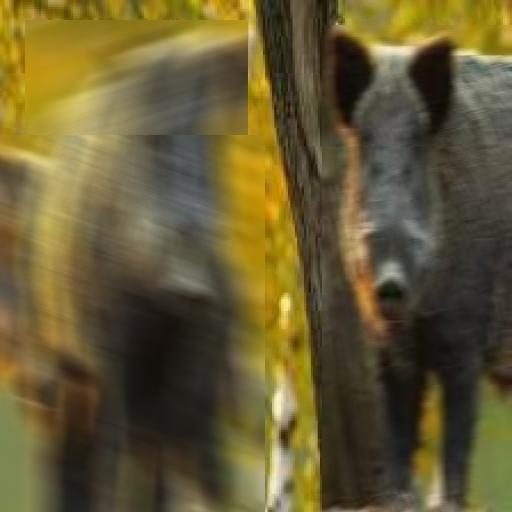Pig: (25, 20, 248, 512), (0, 135, 265, 512), (322, 25, 512, 512)
